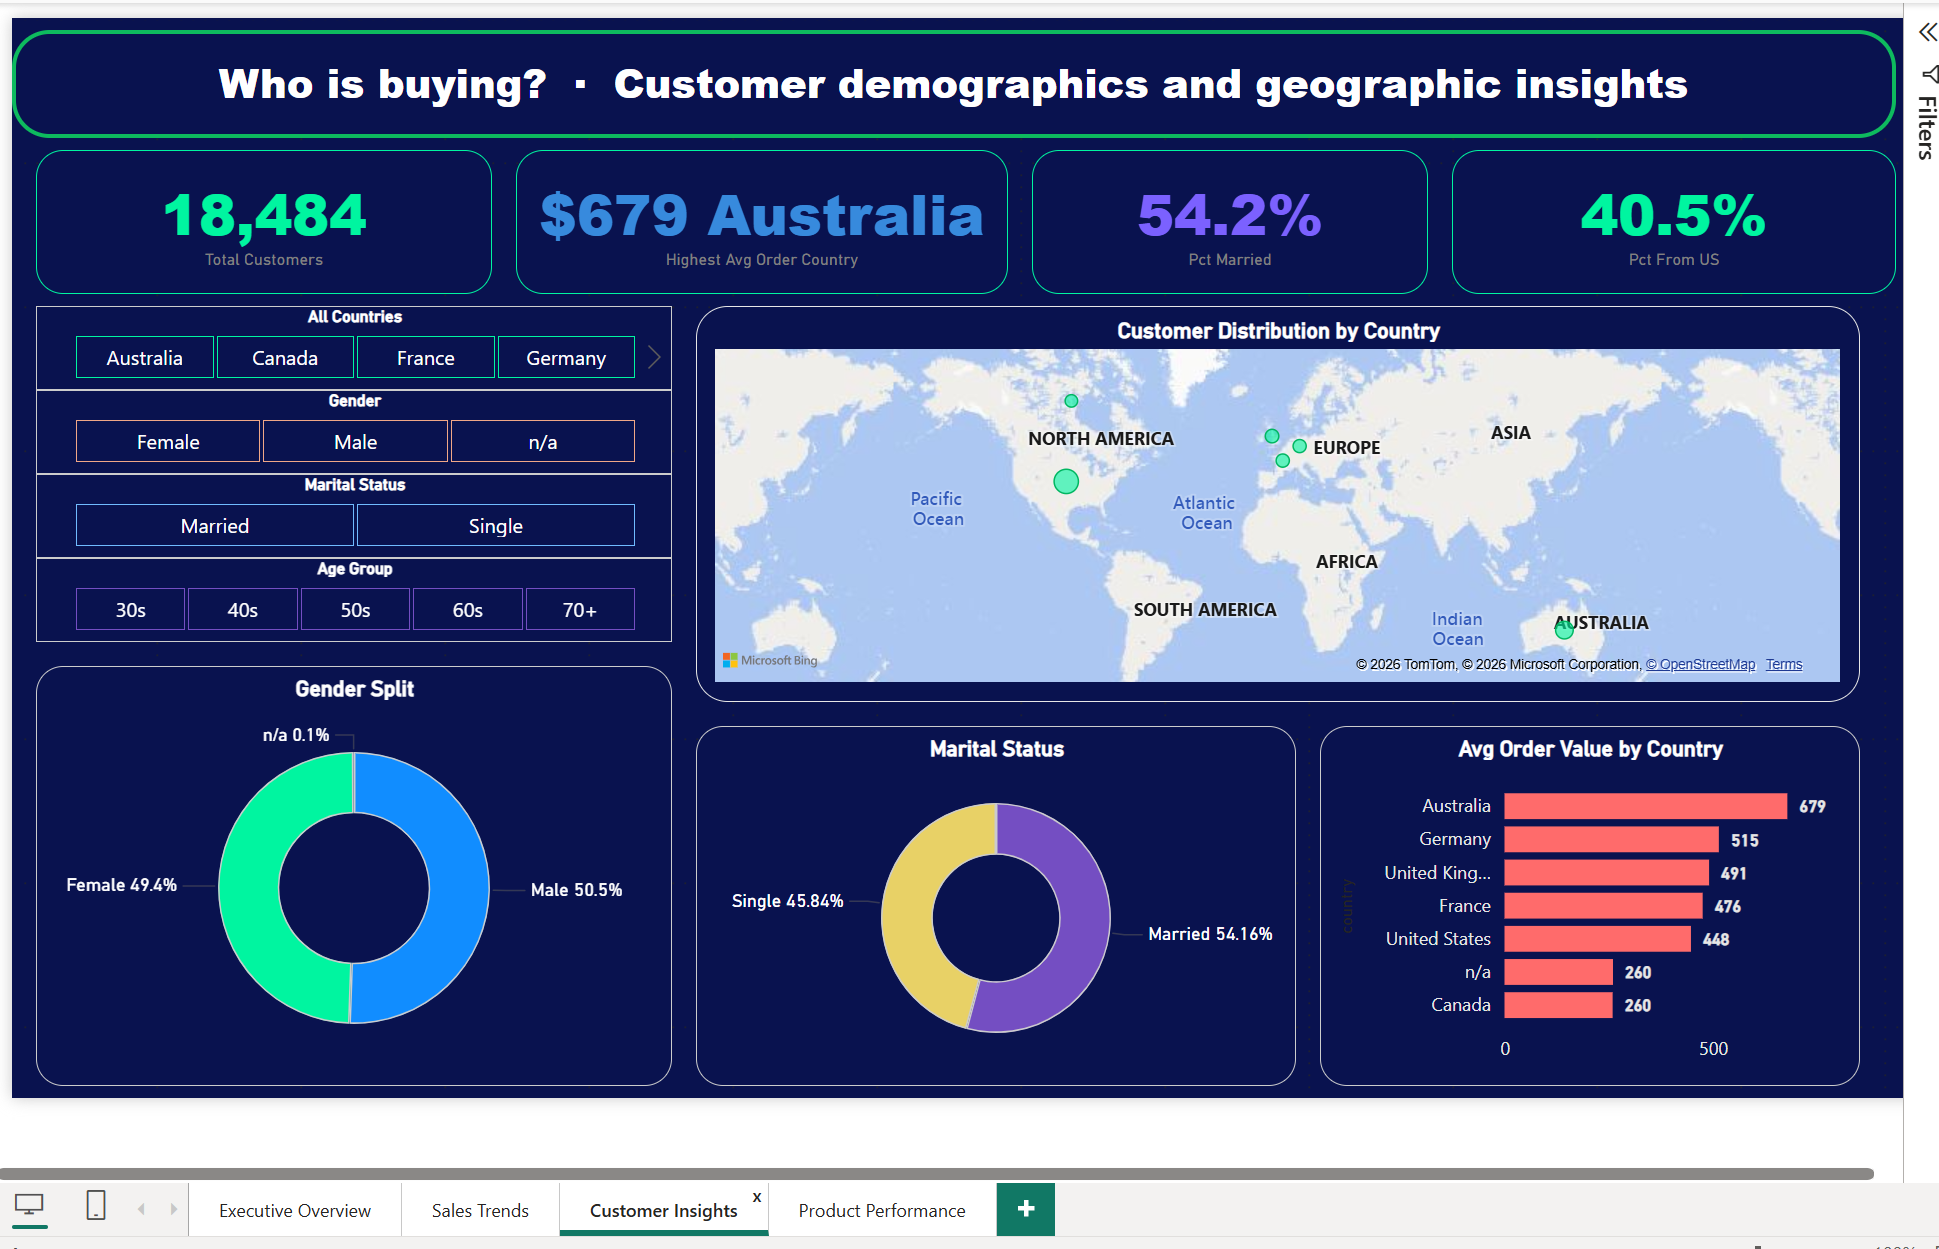

The dashboard page shown, as its layout file describes it:
{"tool":"powerbi","page":{"name":"Customer Insights","canvas":[1280,720],"ordinal":2},"visuals":[{"type":"textbox","box":[0,8,1256,72],"z":0},{"type":"card","fields":{"Values":["Measures = {0}.Total Customers"]},"box":[16,88,304,96],"z":1000},{"type":"card","fields":{"Values":["Measures = {0}.Highest Avg Order Country"]},"box":[336,88,328,96],"z":2000},{"type":"card","fields":{"Values":["Measures = {0}.Pct Married"]},"box":[680,88,264,96],"z":3000},{"type":"card","fields":{"Values":["Measures = {0}.Pct From US"]},"box":[960,88,296,96],"z":4000},{"type":"map","title":"Customer Distribution by Country","fields":{"Category":["datawarehouse gold_dim_customers.country"],"Size":["Measures = {0}.Total Customers"]},"box":[456,192,776,264],"z":5000},{"type":"slicer","title":"All Countries","fields":{"Values":["datawarehouse gold_dim_customers.country"]},"box":[16,192,424,56],"z":6000},{"type":"donutChart","title":"Gender Split","fields":{"Category":["datawarehouse gold_dim_customers.gender"],"Y":["Measures = {0}.Total Customers"]},"box":[16,432,424,280],"z":7000},{"type":"clusteredBarChart","title":"Avg Order Value by Country","fields":{"Category":["datawarehouse gold_dim_customers.country"],"Y":["Measures = {0}.Avg Order Value"]},"box":[872,472,360,240],"z":8000},{"type":"donutChart","title":"Marital Status","fields":{"Category":["datawarehouse gold_dim_customers.marital_status"],"Y":["Measures = {0}.Total Customers"]},"box":[456,472,400,240],"z":9000},{"type":"slicer","title":"Gender","fields":{"Values":["datawarehouse gold_dim_customers.gender"]},"box":[16,248,424,56],"z":11000},{"type":"slicer","title":"Marital Status","fields":{"Values":["datawarehouse gold_dim_customers.marital_status"]},"box":[16,304,424,56],"z":12000},{"type":"slicer","title":"Age Group","fields":{"Values":["datawarehouse gold_dim_customers.age_group"]},"box":[16,360,424,56],"z":13000}]}

Visuals, with their boxes on the page's 1280x720 design canvas (x1, y1, x2, y2). These are canvas units, not pixel positions in the 1939x1249 screenshot, which may show the page scaled, cropped or inside an application window:
textbox: [0, 8, 1256, 80]
card - Measures = {0}.Total Customers: [16, 88, 320, 184]
card - Measures = {0}.Highest Avg Order Country: [336, 88, 664, 184]
card - Measures = {0}.Pct Married: [680, 88, 944, 184]
card - Measures = {0}.Pct From US: [960, 88, 1256, 184]
"Customer Distribution by Country" map: [456, 192, 1232, 456]
"All Countries" slicer: [16, 192, 440, 248]
"Gender Split" donutChart: [16, 432, 440, 712]
"Avg Order Value by Country" clusteredBarChart: [872, 472, 1232, 712]
"Marital Status" donutChart: [456, 472, 856, 712]
"Gender" slicer: [16, 248, 440, 304]
"Marital Status" slicer: [16, 304, 440, 360]
"Age Group" slicer: [16, 360, 440, 416]
